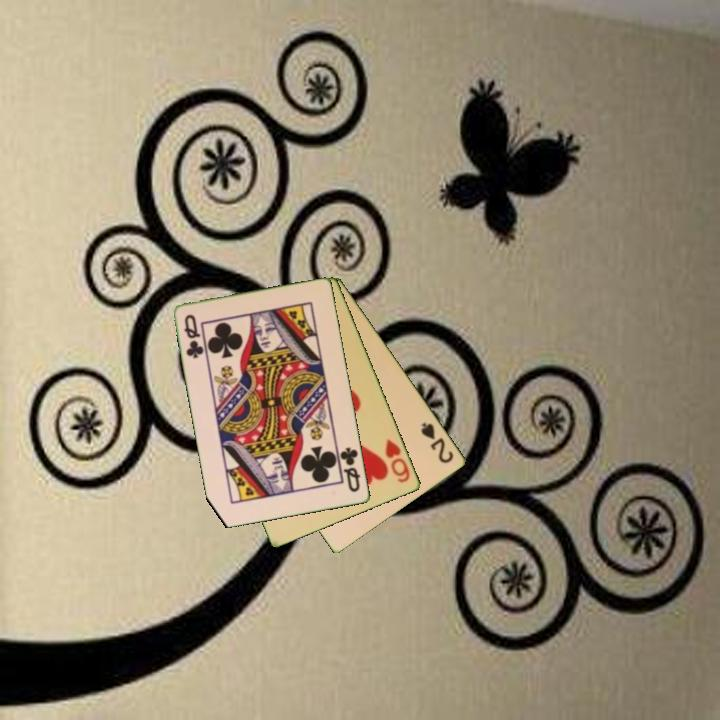2s: (417, 418, 457, 466)
6h: (382, 435, 413, 486)
Qc: (335, 444, 363, 495), (181, 311, 207, 361)
